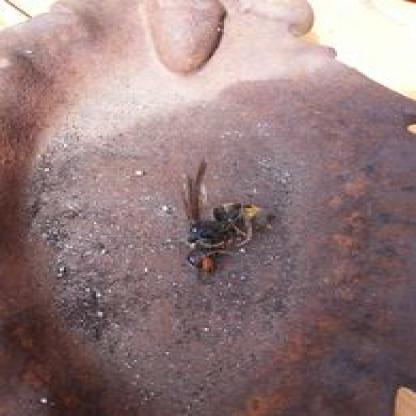Asian Hornet: (180, 160, 262, 282)
